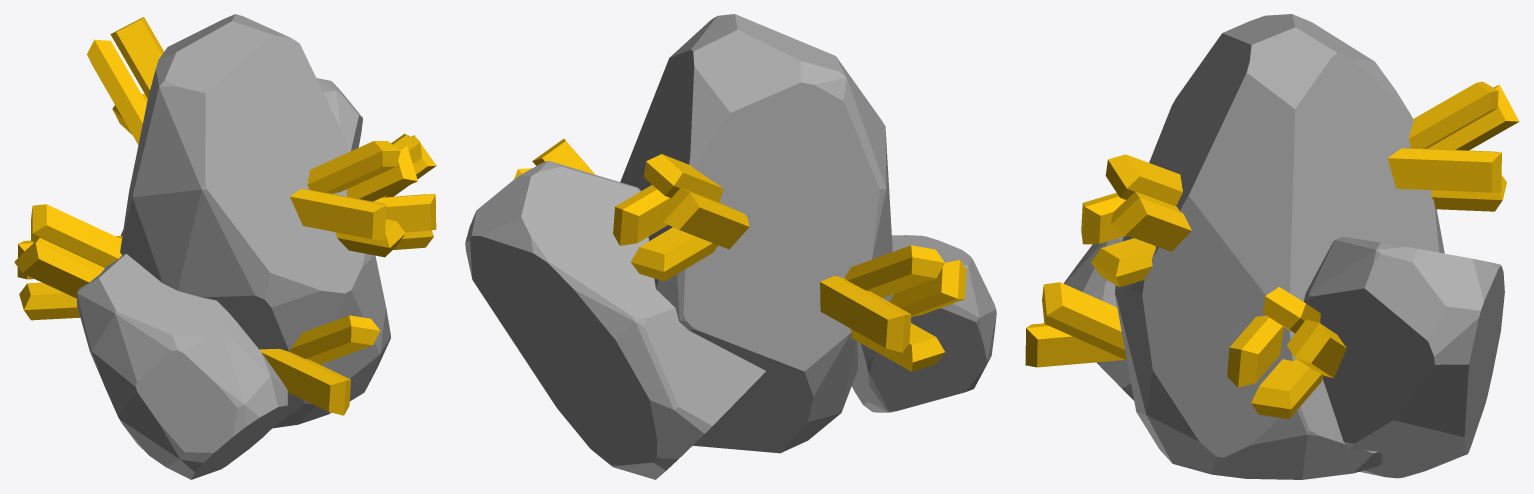
The model's file is Gold.fbx.
3 views of the same model, side by side, from view 1: azimuth 30°, elevation 25°; view 2: azimuth 150°, elevation 25°; view 3: azimuth 270°, elevation 25° (orthographic). The views are drawn at different scales.
Parts seen in each view (by area): view 1: World.024; view 2: World.024; view 3: World.024.
Boxes of the visible parts, x1,y1,x2,y2 form: World.024: (14,14,436,479); World.024: (465,14,996,479); World.024: (1025,14,1519,479).
Bounding box in the file's own units: 41.65 × 36.59 × 38.15.
